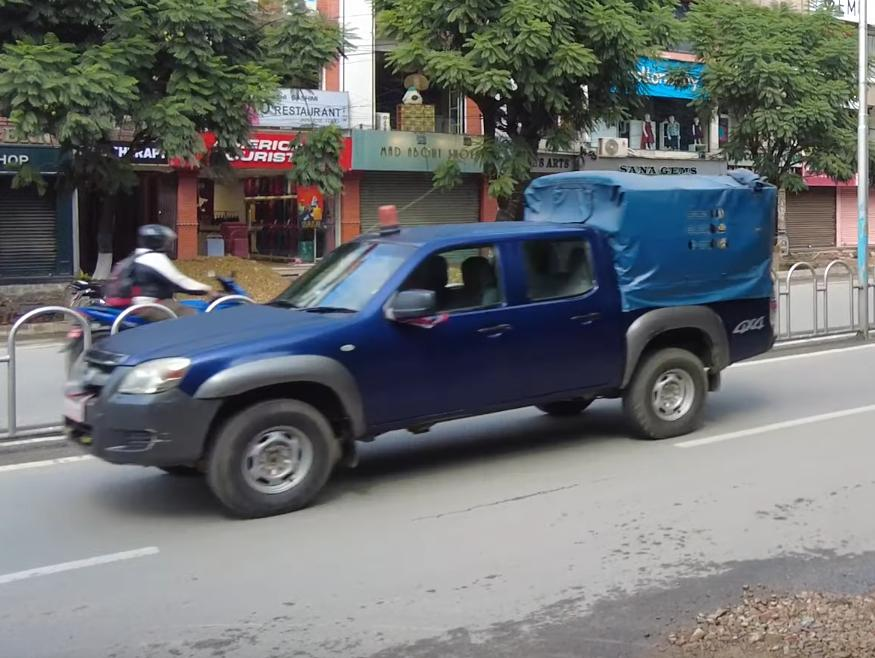police_vehicle: (50, 155, 787, 532)
